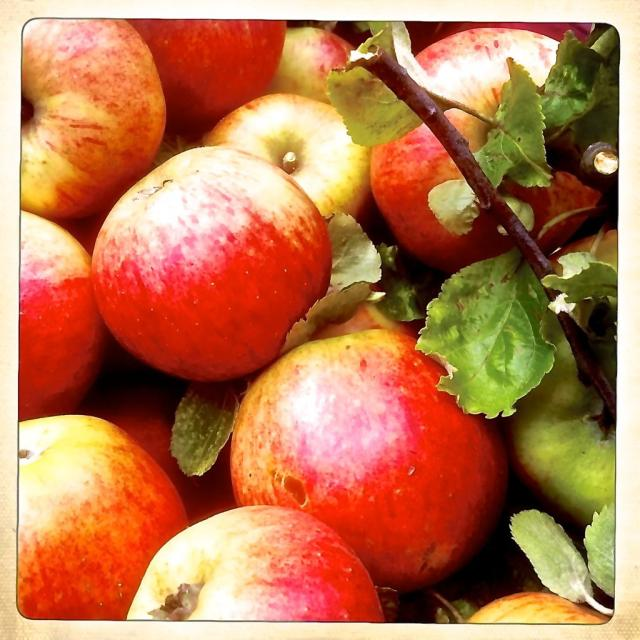Healty Apple: (2, 6, 636, 621)
